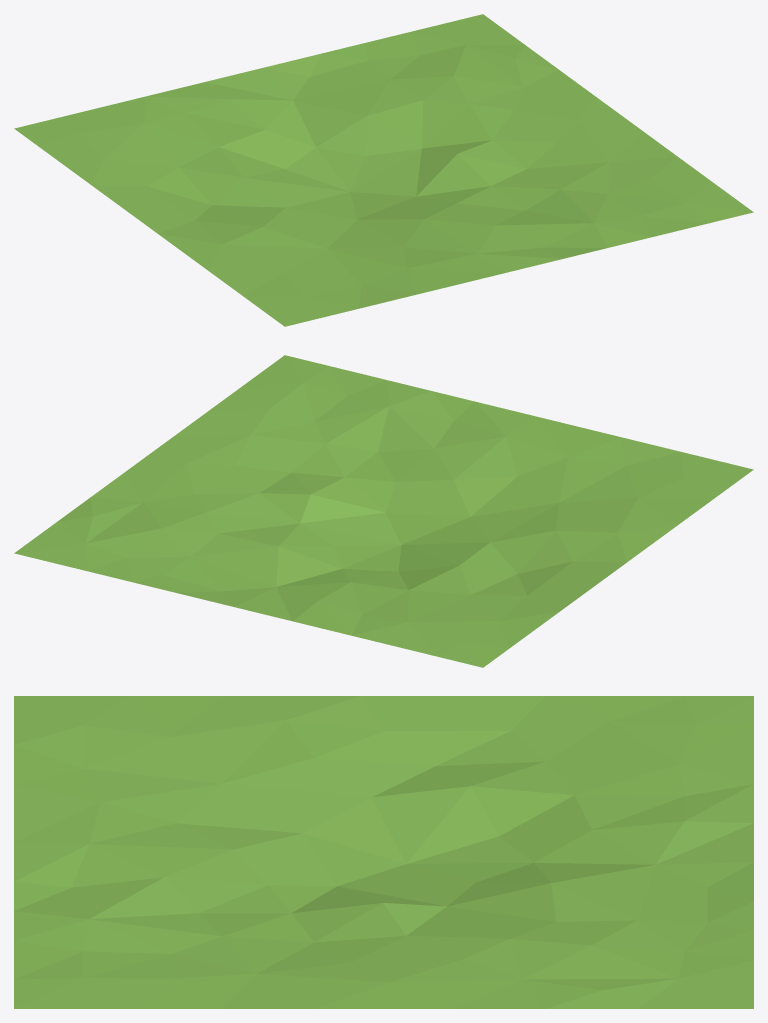
The model's file is MT_Terrain_S_b_05.fbx.
3 views of the same model, one above another, from view 1: azimuth 30°, elevation 25°; view 2: azimuth 150°, elevation 25°; view 3: azimuth 270°, elevation 25° (orthographic). The views are drawn at different scales.
Parts seen in each view (by area): view 1: MT_Terrain_S_b_05; view 2: MT_Terrain_S_b_05; view 3: MT_Terrain_S_b_05.
Boxes of the visible parts, x1,y1,x2,y2 form: MT_Terrain_S_b_05: (14,14,753,326); MT_Terrain_S_b_05: (14,355,753,667); MT_Terrain_S_b_05: (14,696,753,1008).
Bounding box in the file's own units: 2500 × 124 × 2500.
